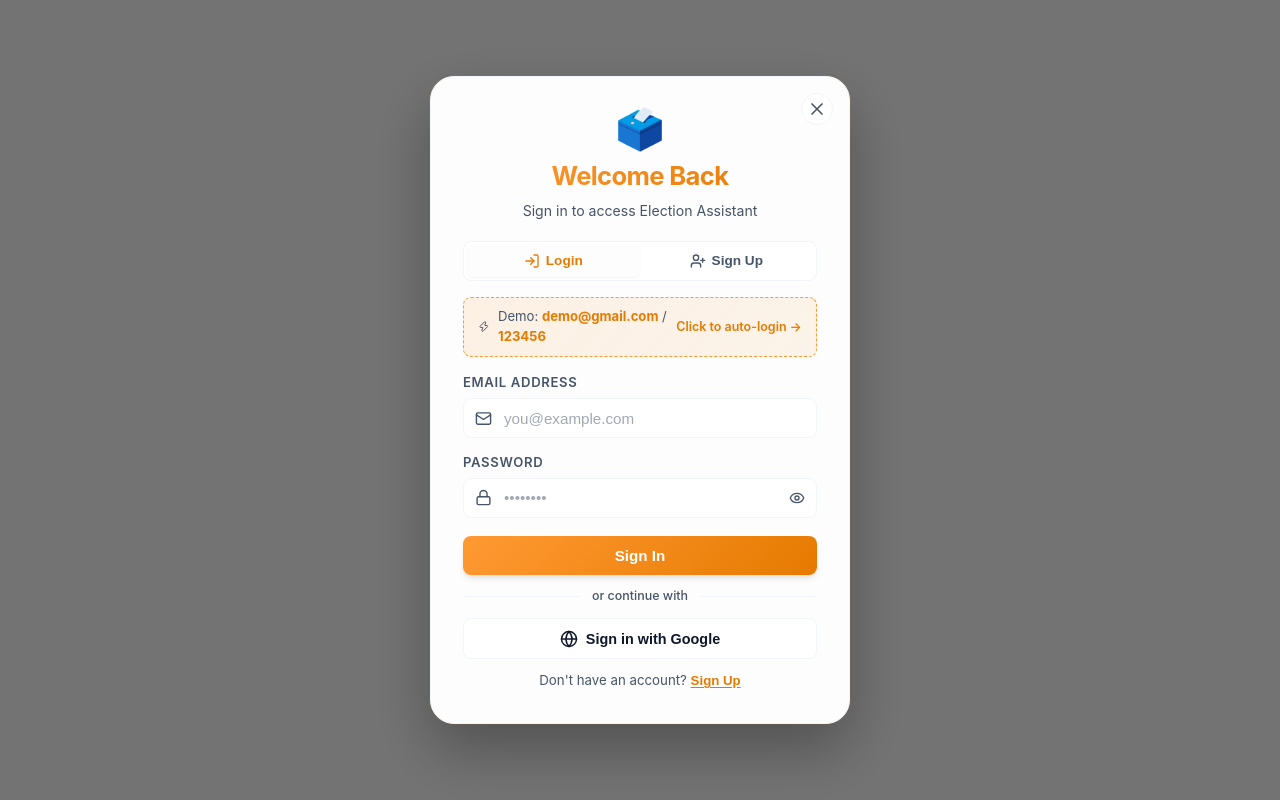
🔒 Login Form Validation › shows network error message on connection failure
Type "test@test.com" into the field labelled "Email Address".
click(640, 418); type("test@test.com")  # box top-left (463, 398), bottom-right (817, 438)
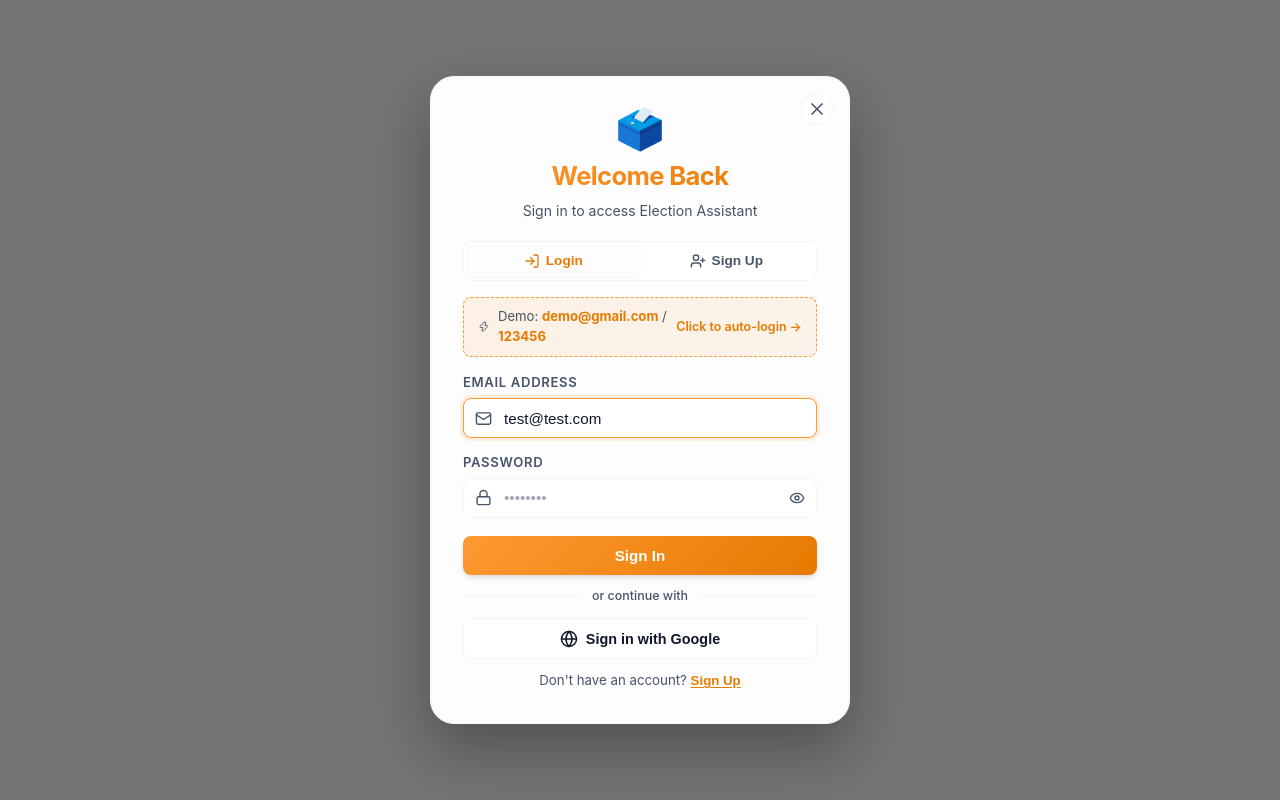
Type "password123" into the password field with id "auth-password".
click(640, 498); type("password123")  # box top-left (463, 478), bottom-right (817, 518)
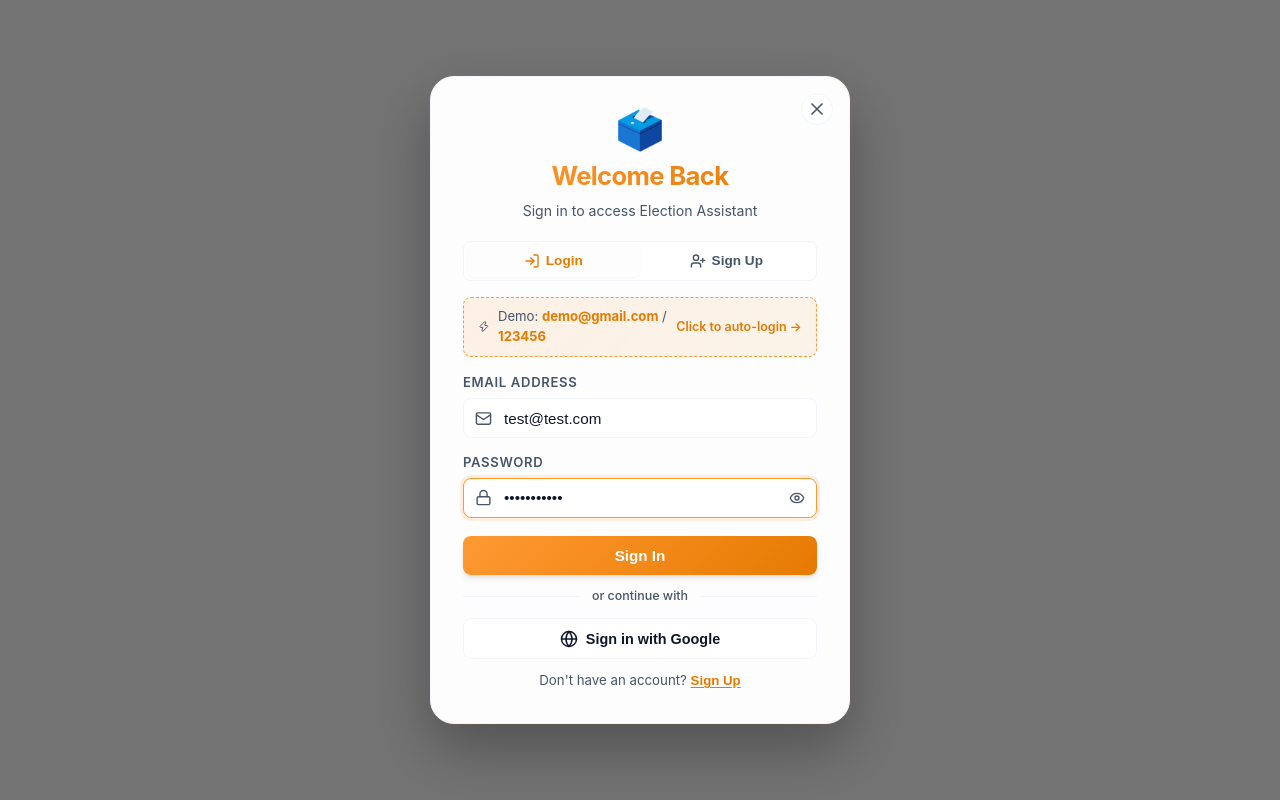
Click the button with class "auth-submit-btn".
click(640, 556)  # box top-left (463, 536), bottom-right (817, 576)
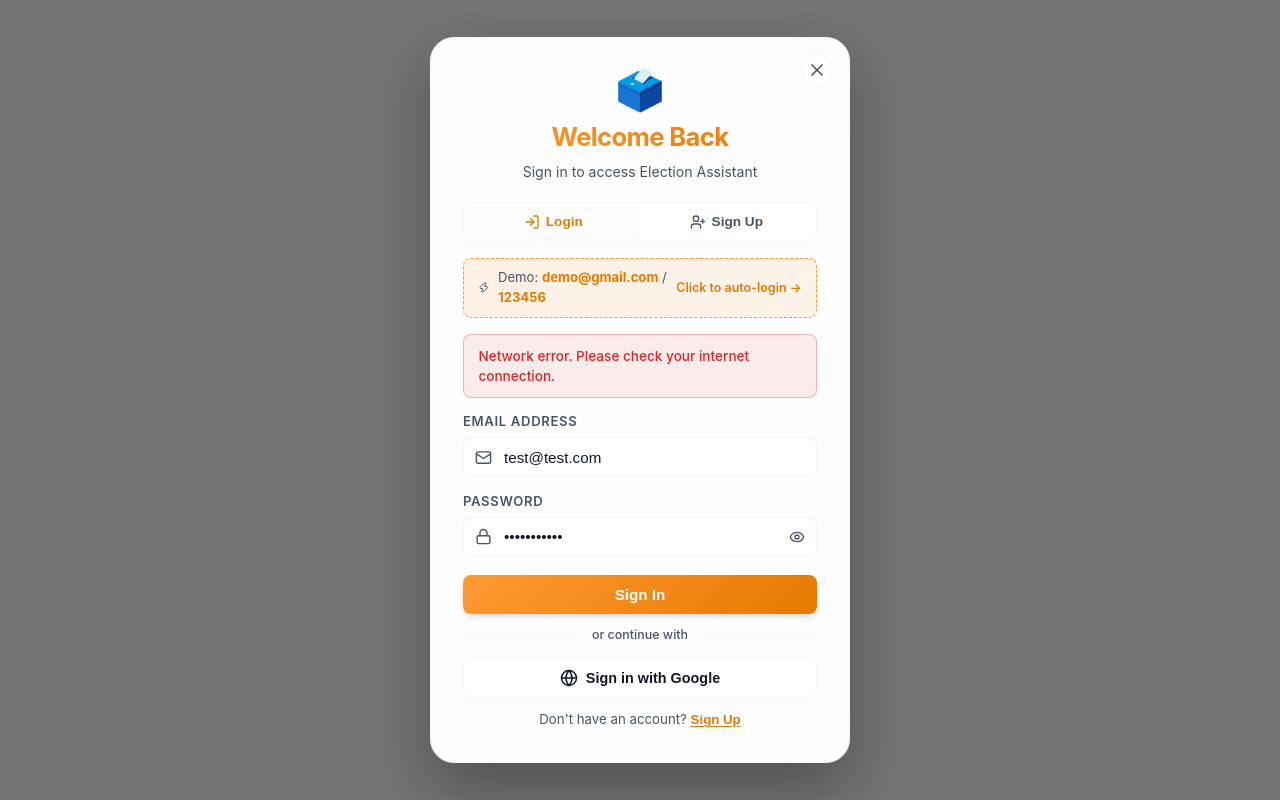
Expected: the text "Network error. Please check your internet connection." is shown, top-left (463, 334), bottom-right (817, 398)
